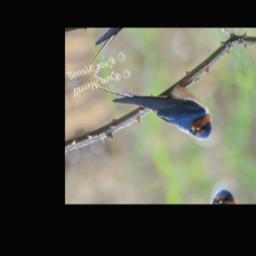Swallow: (90, 48, 218, 171)
